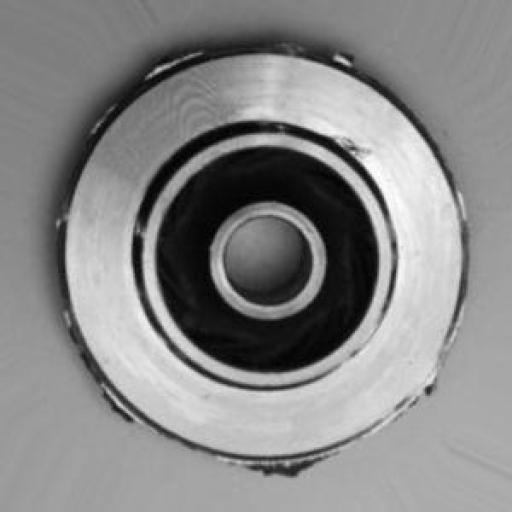defect: (29, 23, 493, 486)
